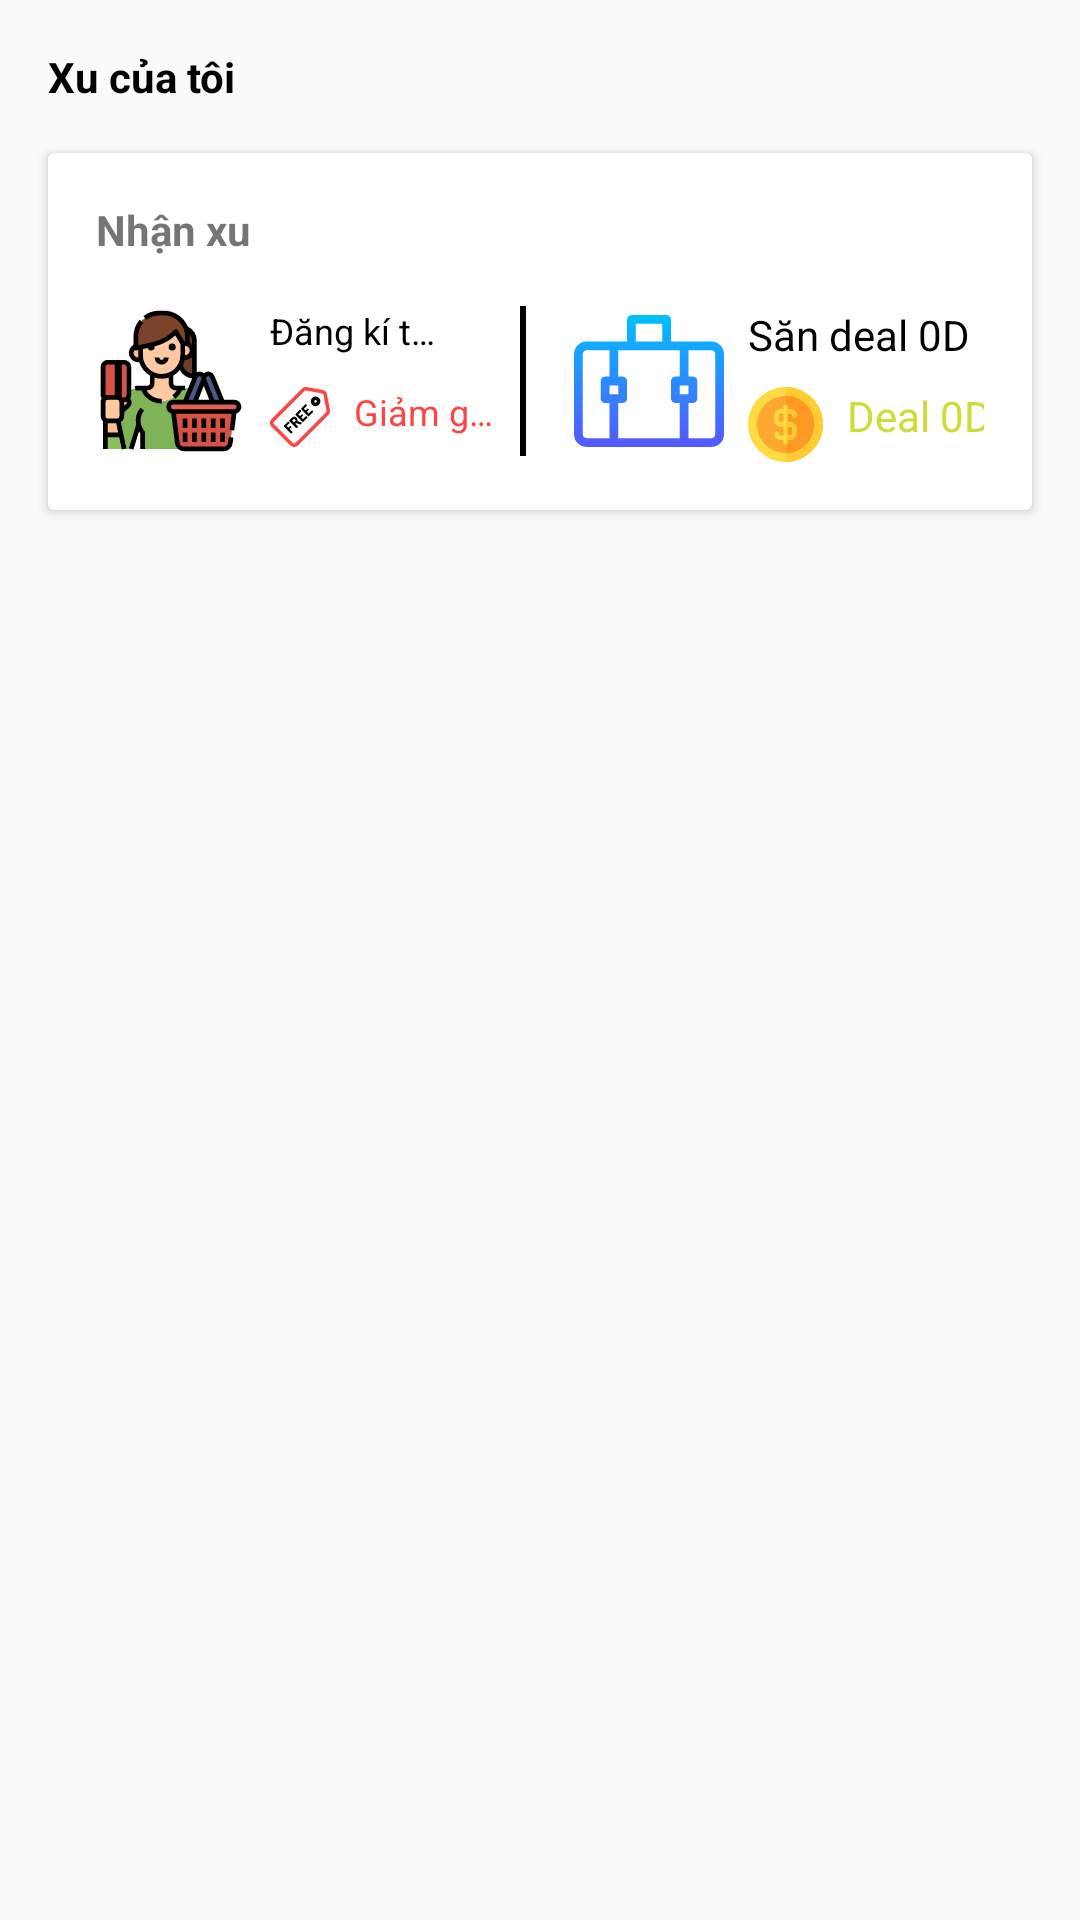

Screen size 1080px x 1920px. Icon name, then its box in pixels as region(x1, y1, x2, y2):
account register: region(100, 310, 242, 452)
bag coin: region(574, 315, 724, 447)
